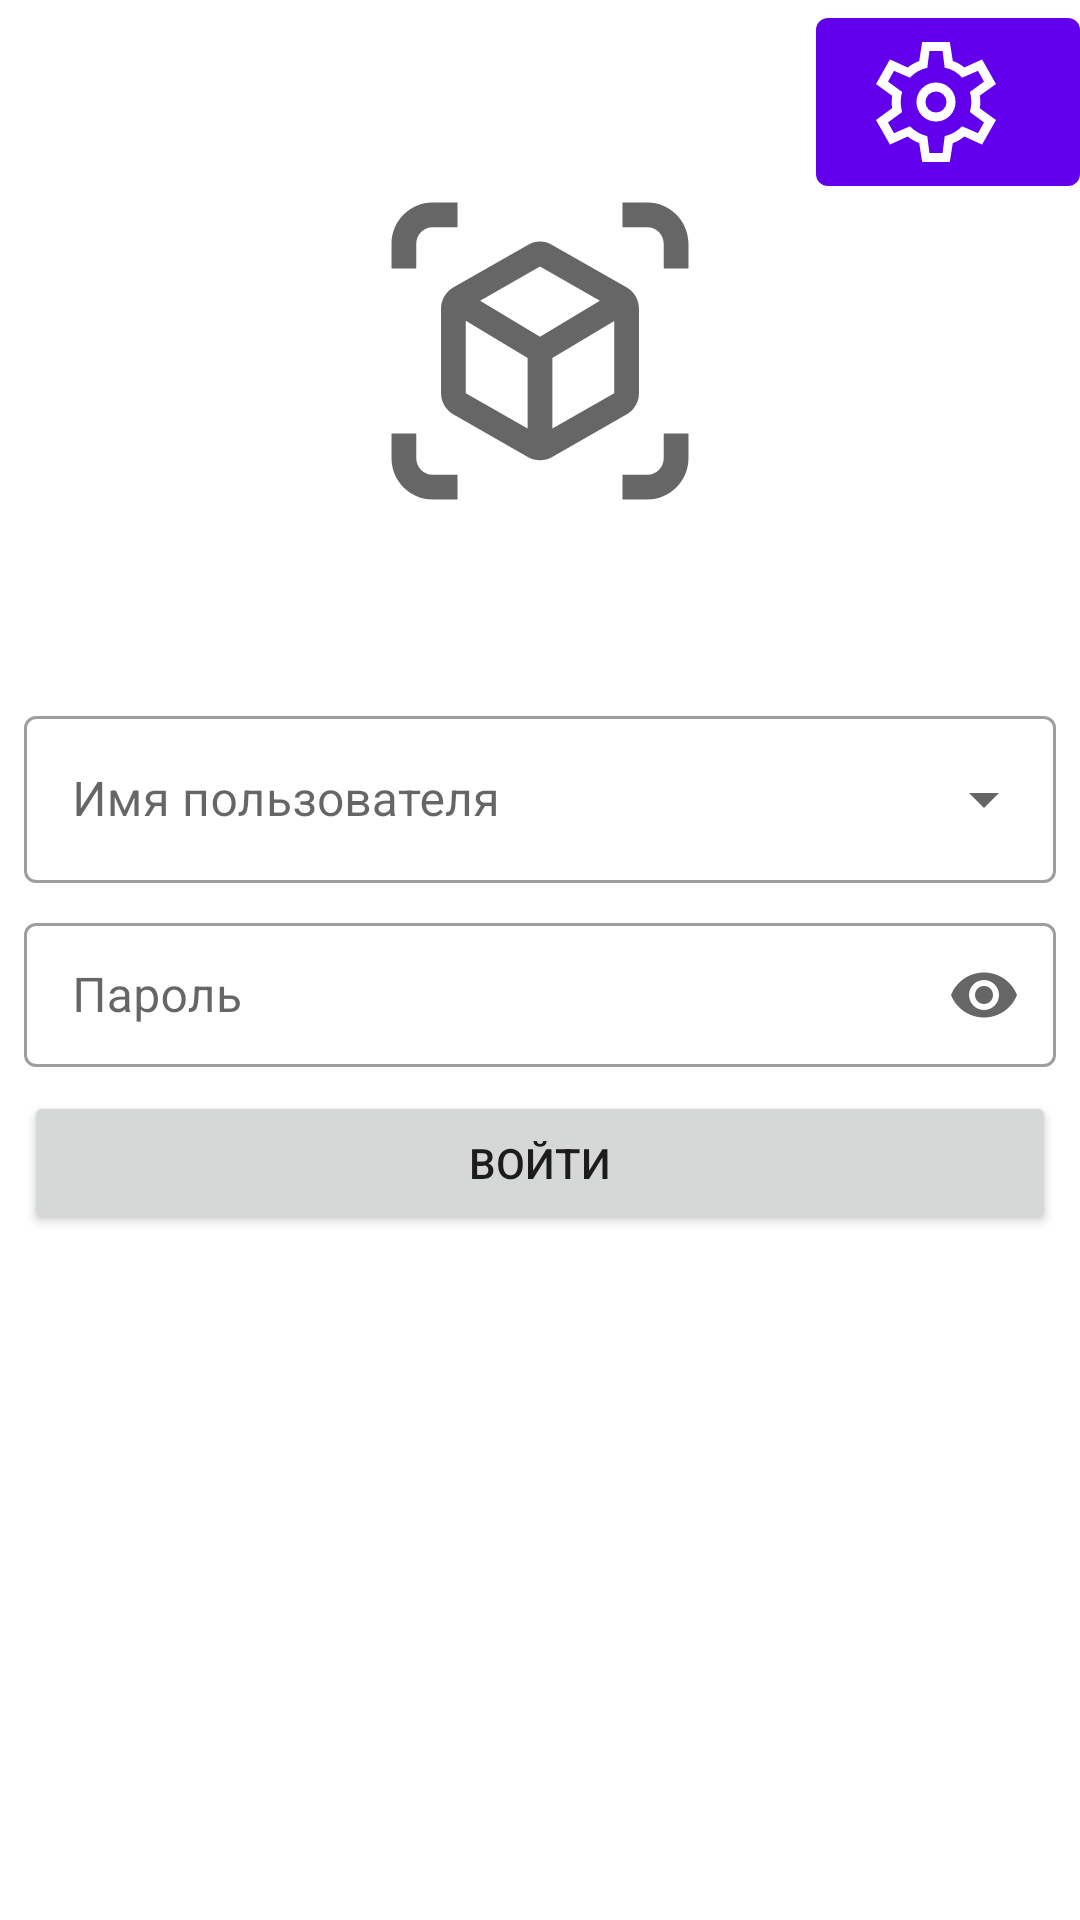

Locate icon controls on the screen. Image size 1080x1920, boxes as (x1, y1, x2, y2).
settings: (816, 18, 1080, 186)
